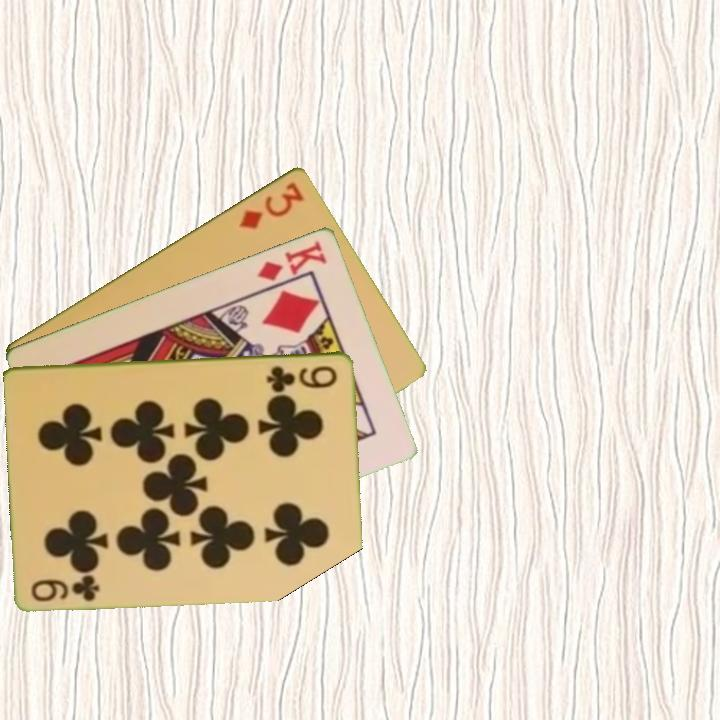3d: (235, 177, 307, 232)
9c: (27, 571, 103, 604), (263, 362, 340, 391)
Kd: (254, 236, 330, 283)
